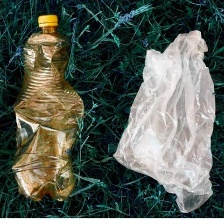bottle: (8, 11, 88, 205)
plastic_bag: (109, 26, 218, 213)
